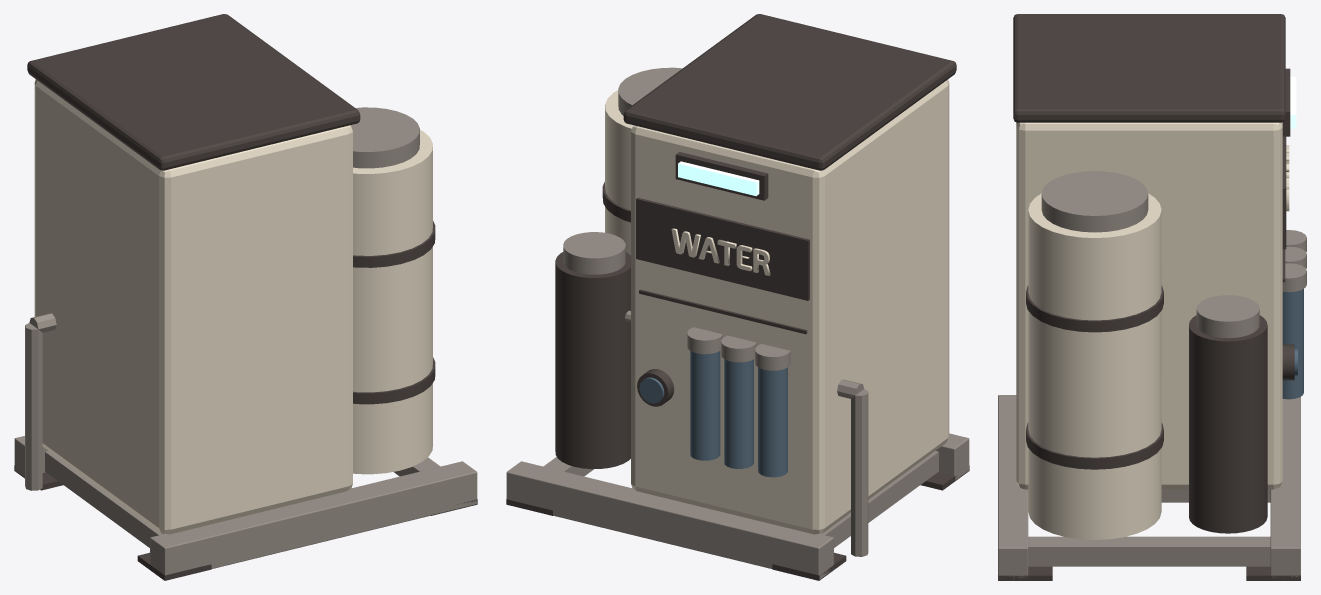
The model's file is prop_water_recycler.glb.
3 renders of one model, left to right at view 1: azimuth 30°, elevation 25°; view 2: azimuth 150°, elevation 25°; view 3: azimuth 270°, elevation 25°, orthographic.
Parts seen in each view (by area): view 1: body-col, feed, water_band0.42, water_band0.92; view 2: body-col, sign, filter2, filter0, filter1, feed, water_label, water_light_housing, water_light, front_seam, filter_cap0, filter_cap2 (+2 smaller); view 3: body-col, water_band0.42, water_band0.92, filter2, filter_cap2, sign, gauge, water_light_housing.
Boxes of the visible parts, left/top/right/bottom form: body-col: left=14, top=14, right=477, bottom=580; feed: left=25, top=323, right=42, bottom=490; water_band0.42: left=353, top=357, right=435, bottom=404; water_band0.92: left=353, top=221, right=435, bottom=267; body-col: left=506, top=14, right=969, bottom=580; sign: left=636, top=197, right=809, bottom=300; filter2: left=690, top=351, right=720, bottom=460; filter0: left=758, top=367, right=787, bottom=477; filter1: left=724, top=359, right=753, bottom=468; feed: left=851, top=389, right=868, bottom=556; water_label: left=671, top=228, right=770, bottom=275; water_light_housing: left=675, top=152, right=768, bottom=200; water_light: left=678, top=161, right=759, bottom=195; front_seam: left=639, top=289, right=807, bottom=334; filter_cap0: left=755, top=344, right=790, bottom=370; filter_cap2: left=687, top=327, right=722, bottom=354; body-col: left=998, top=14, right=1300, bottom=580; water_band0.42: left=1026, top=422, right=1163, bottom=469; water_band0.92: left=1026, top=285, right=1163, bottom=332; filter2: left=1282, top=288, right=1303, bottom=399; filter_cap2: left=1282, top=263, right=1306, bottom=292; sign: left=1282, top=136, right=1286, bottom=249; gauge: left=1282, top=344, right=1294, bottom=380; water_light_housing: left=1282, top=68, right=1290, bottom=136.
Size of the model in its own units: 1.27 by 1.52 by 1.02.
